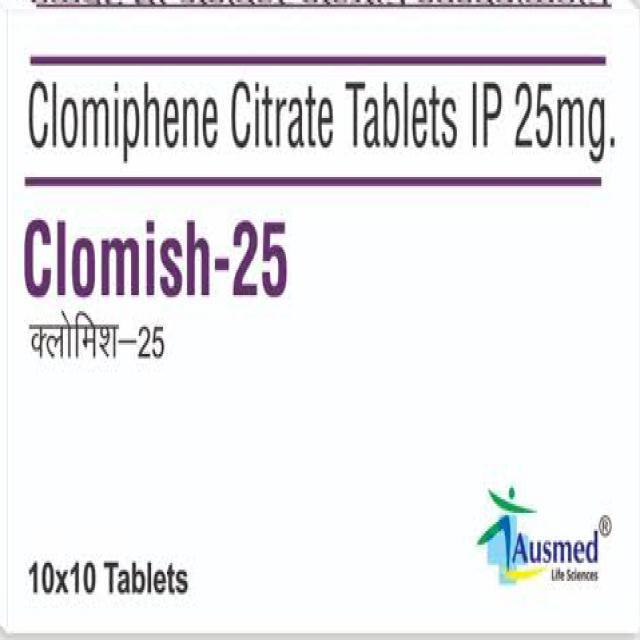drug-name: (22, 210, 303, 300)
